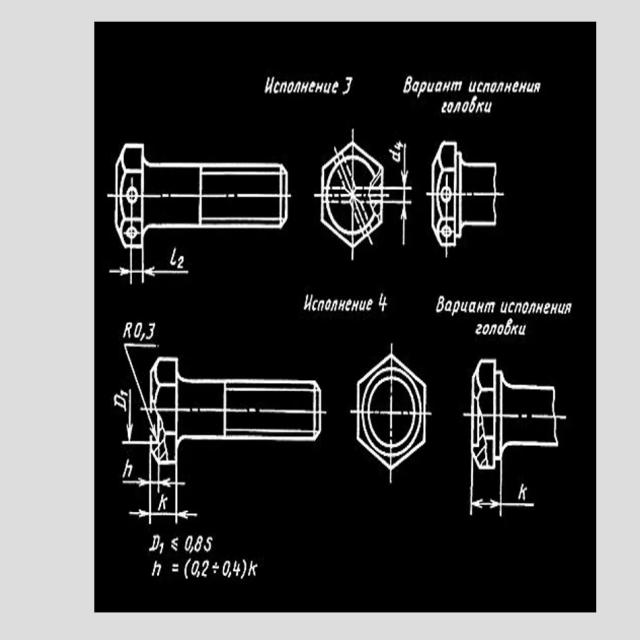marking_line: (122, 386, 136, 441), (145, 266, 188, 280), (108, 262, 132, 281), (399, 199, 408, 249), (399, 147, 410, 185), (473, 499, 499, 514), (129, 503, 147, 522), (119, 477, 146, 489), (178, 511, 197, 523)
numeric: (181, 535, 218, 553), (188, 559, 214, 583), (133, 320, 159, 343), (220, 558, 247, 579), (375, 290, 389, 316), (344, 75, 357, 95)
